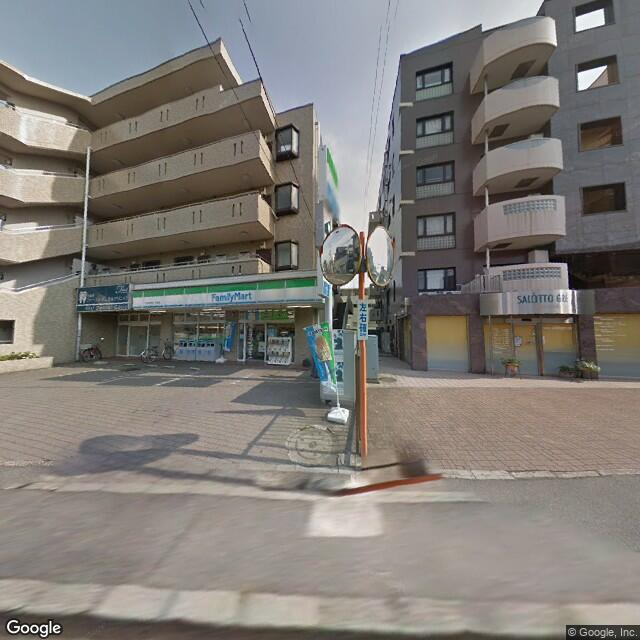family_mart: (130, 272, 322, 315), (207, 288, 256, 305)
